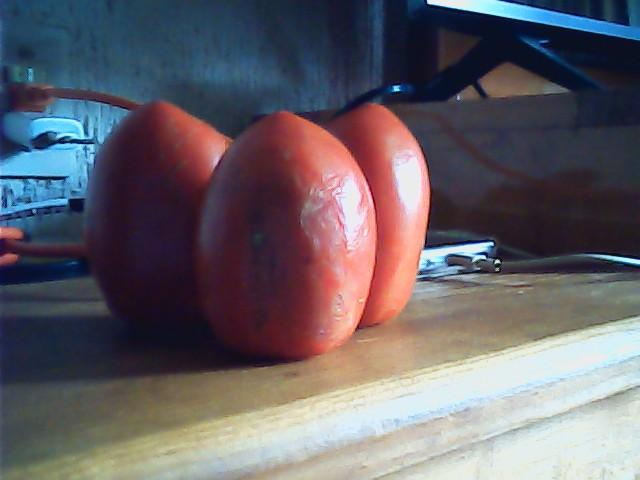defectuoso: (198, 107, 377, 367)
maduro: (88, 101, 236, 323), (305, 102, 433, 330)
